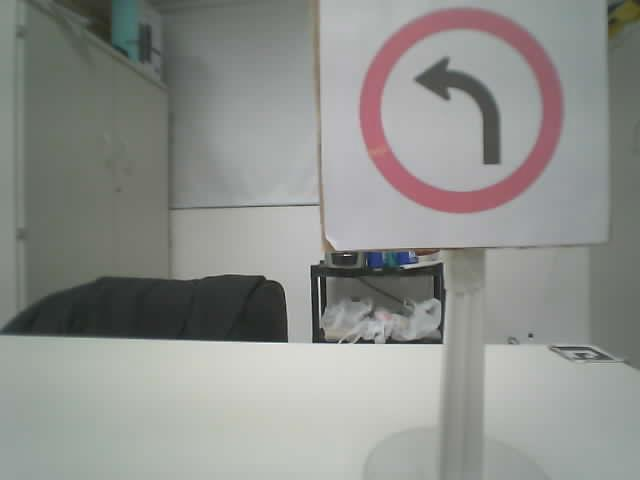R-25a_esquerda: (357, 7, 559, 211)
